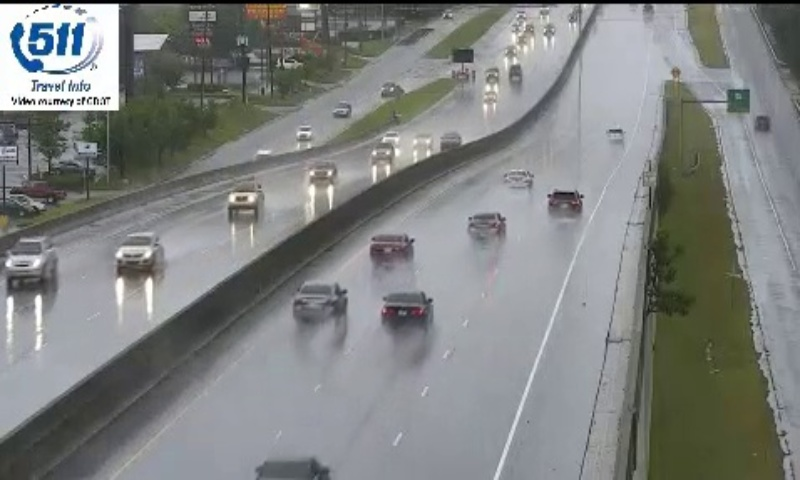car: (294, 281, 346, 325), (381, 291, 433, 329), (370, 233, 414, 267), (467, 212, 506, 241), (547, 188, 583, 219), (503, 167, 532, 190)
